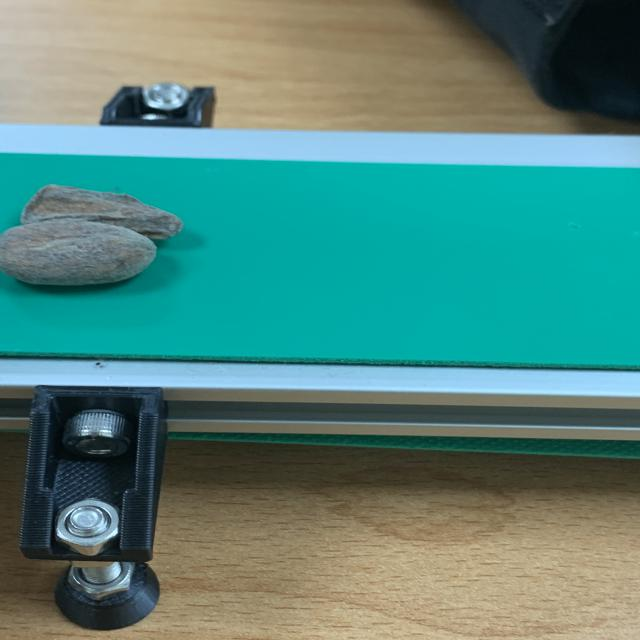Agglomerated_cocoabeans: (0, 154, 241, 309)
